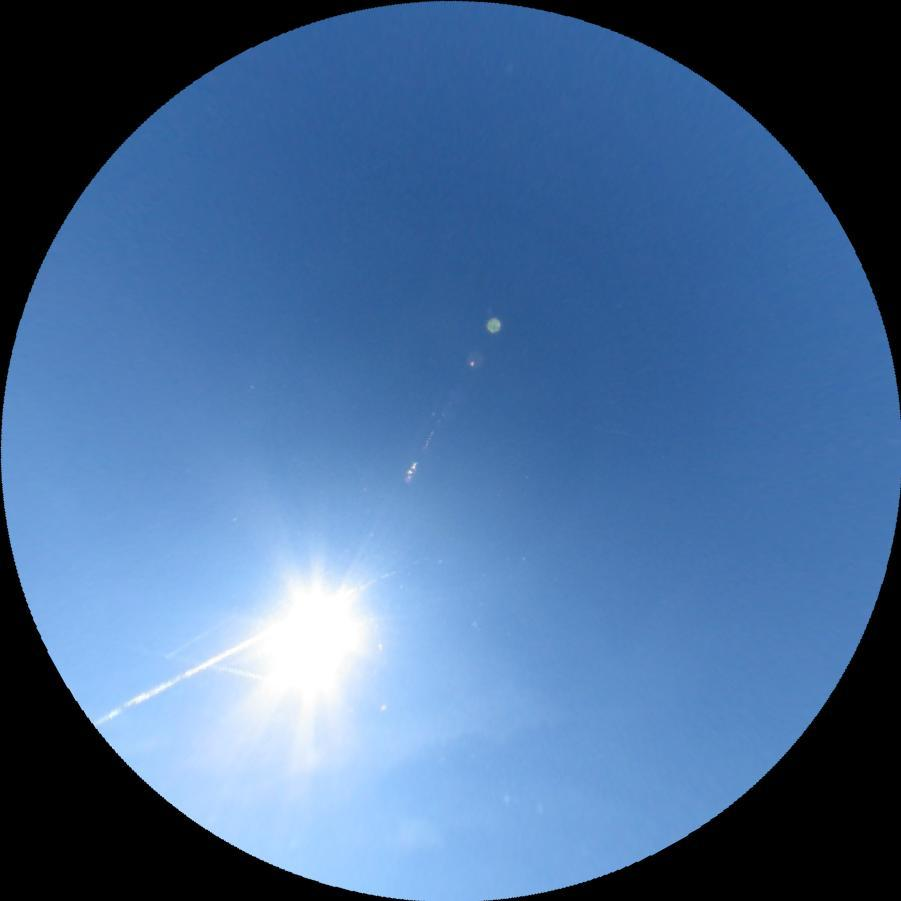contrail young: (150, 648, 267, 682), (591, 424, 631, 437)
parasite: (89, 628, 263, 727), (160, 626, 213, 658)
sun: (250, 580, 369, 701)
